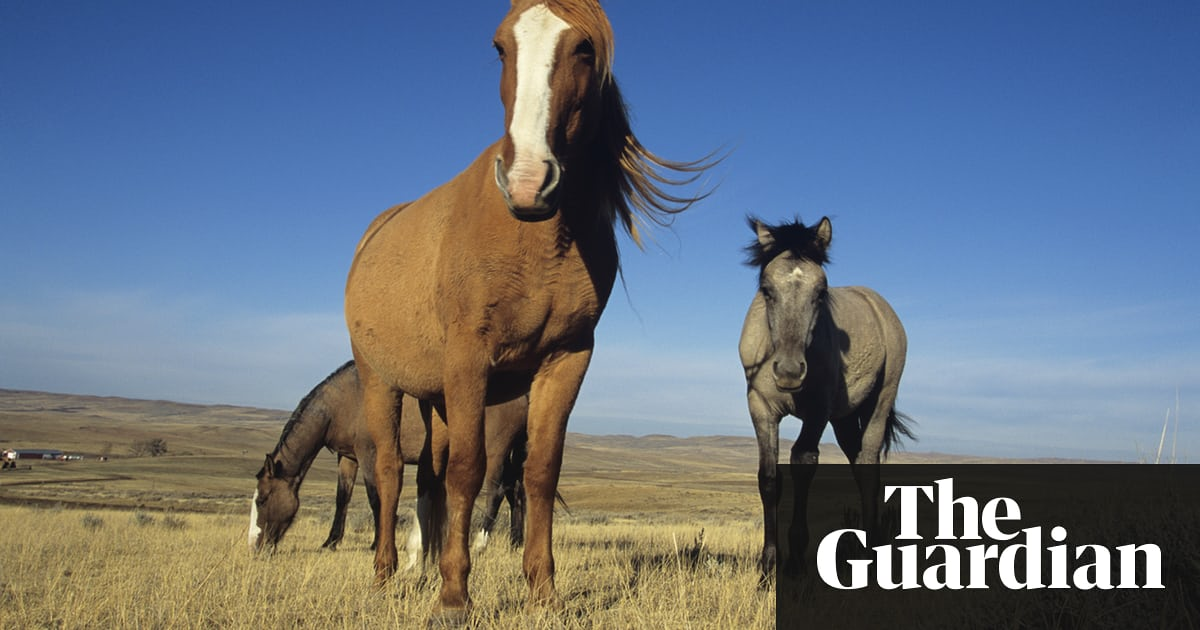horse: (341, 1, 654, 630), (243, 356, 570, 564), (736, 215, 892, 530)
